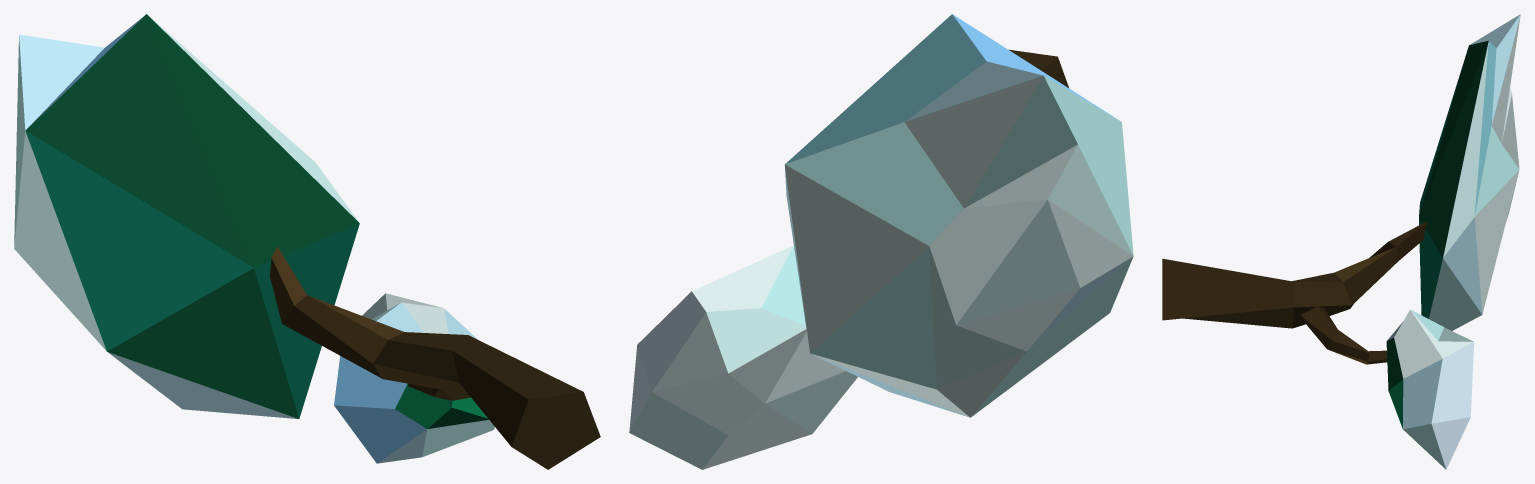
Rendered from winter_tree_8.fbx.
The picture shows the model from 3 angles, left to right: view 1: azimuth 30°, elevation 25°; view 2: azimuth 150°, elevation 25°; view 3: azimuth 270°, elevation 25°; orthographic projection. The views are drawn at different scales.
Parts seen in each view (by area): view 1: winter_tree_8; view 2: winter_tree_8; view 3: winter_tree_8.
Part boxes in pixels (box(x1,y1,x2,y2)): winter_tree_8: box(14, 14, 600, 469); winter_tree_8: box(629, 14, 1133, 469); winter_tree_8: box(1162, 14, 1520, 469).
Size of the model in its own units: 136 by 134 by 131.
